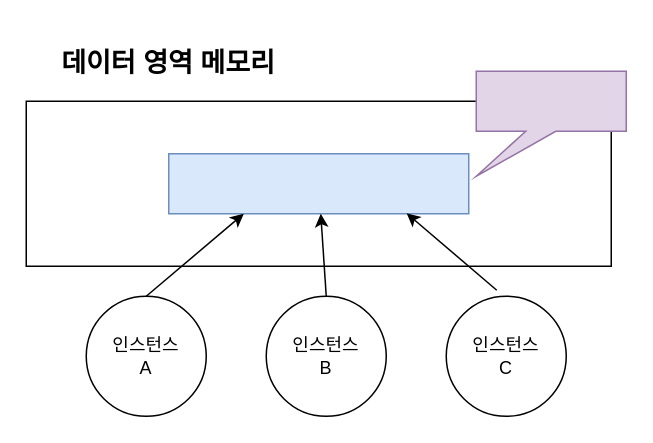
Image size: 653x443. Some labels were removed from this diagram. The centre of each missing label's shape, as x and y in pixels:
"static 변수" goes at point 318,183.
"공유" goes at point 550,123.
